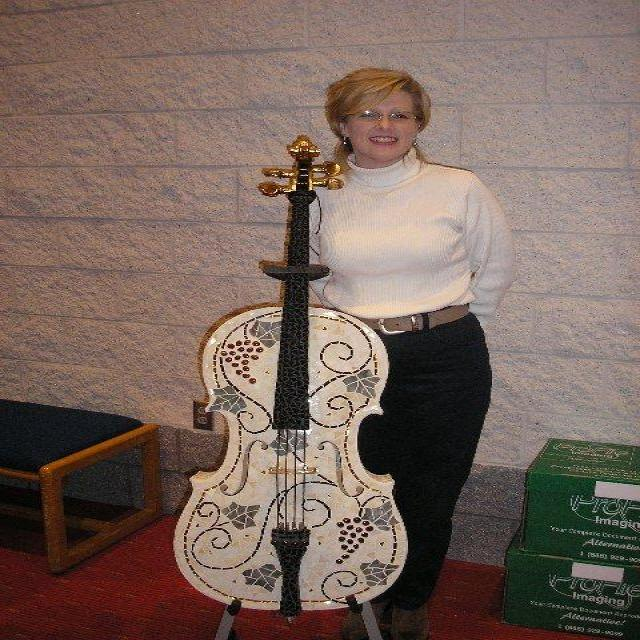cello: (167, 134, 418, 614)
